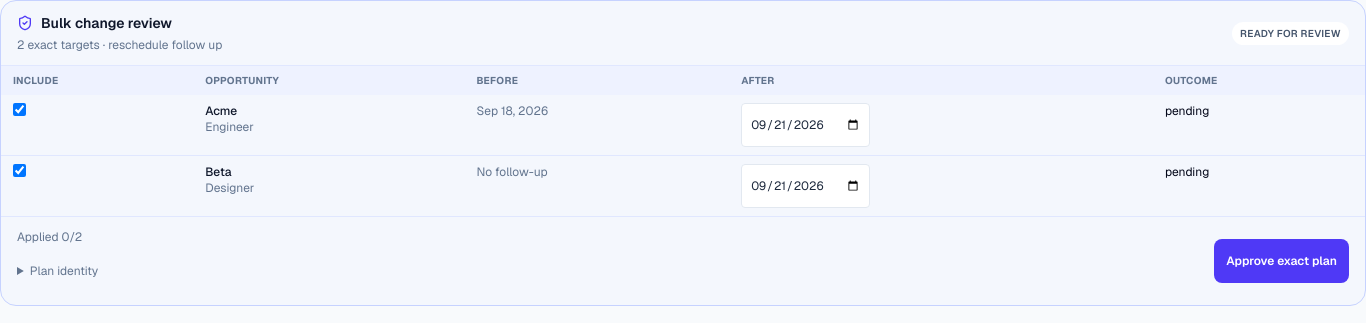
it: BulkReview › creates a new preview before approval when a row is excluded
Click the checkbox named "Include Beta Designer".
click(20, 171)  # box top-left (13, 164), bottom-right (26, 177)
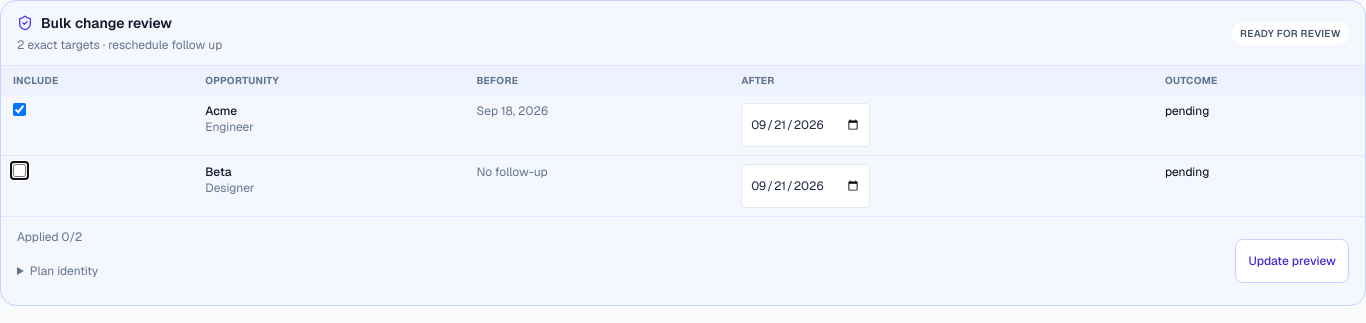
Click the button "Update preview".
click(1292, 261)  # box top-left (1235, 239), bottom-right (1349, 283)
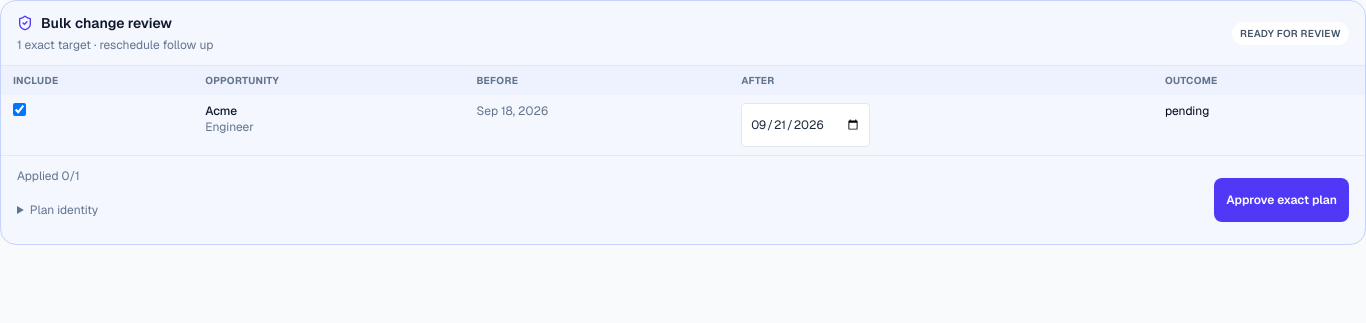
Expected: the text "1 exact target" is shown, top-left (17, 37), bottom-right (91, 53)
